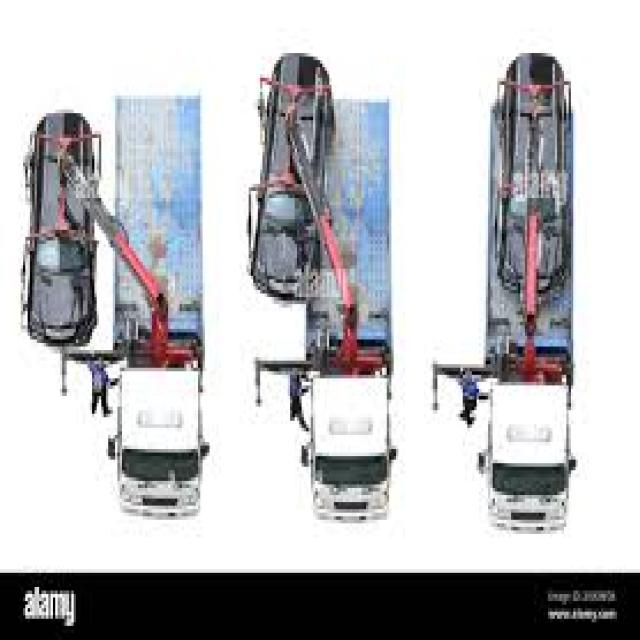truck: (478, 45, 582, 538)
